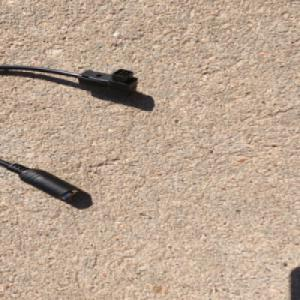Wire: (0, 62, 142, 204)
